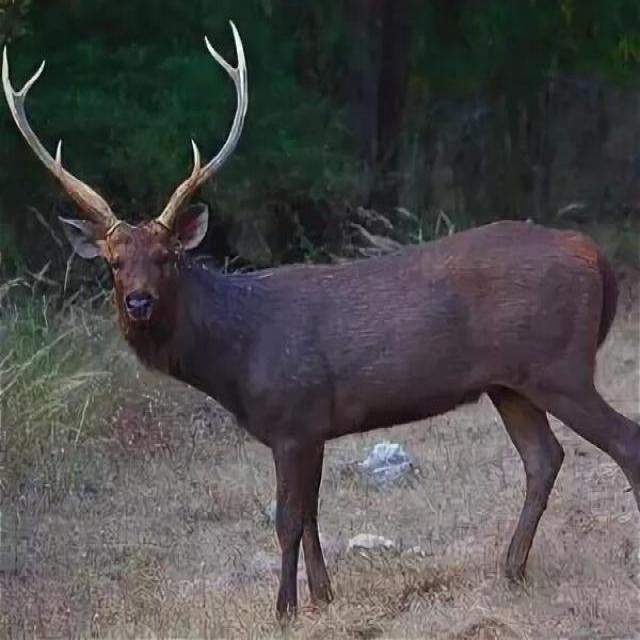deer: (23, 99, 640, 584)
